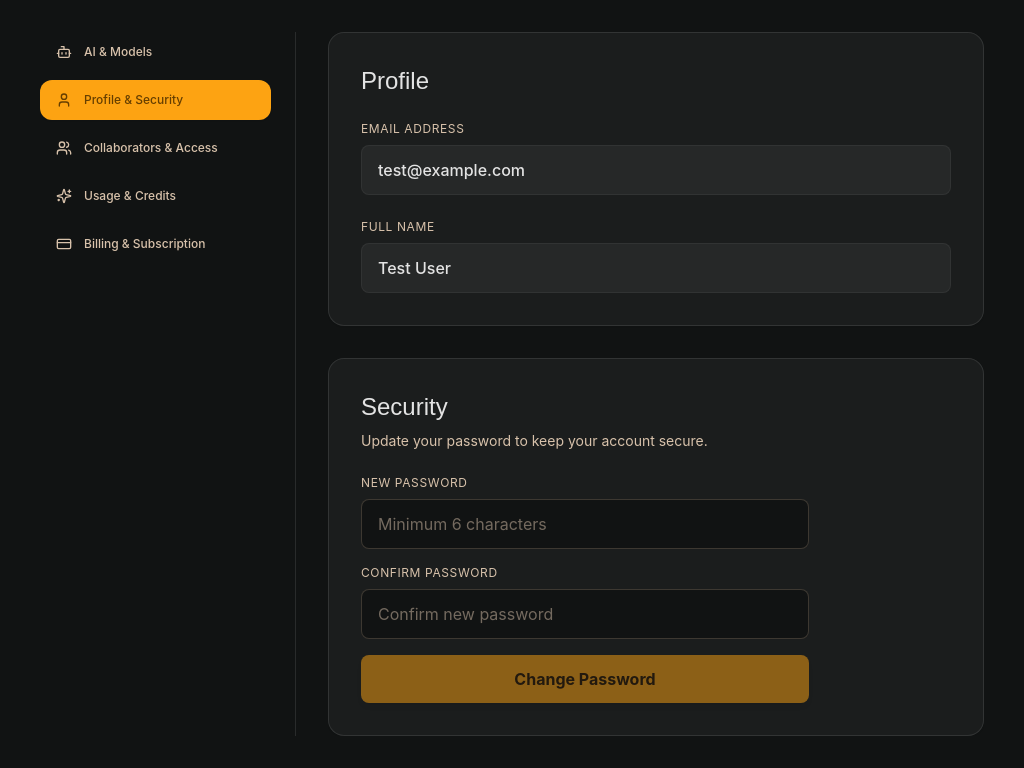
it: SettingsClient Tabbed Navigation › renders tab buttons and switches between tabs
Expected: the tab "Profile & Security" is shown, [40,80,271,120]
Expected: the tab "Collaborators & Access" is shown, [40,128,271,168]
Click the tab "Billing & Subscription".
click(156, 244)  # box [40,224,271,264]
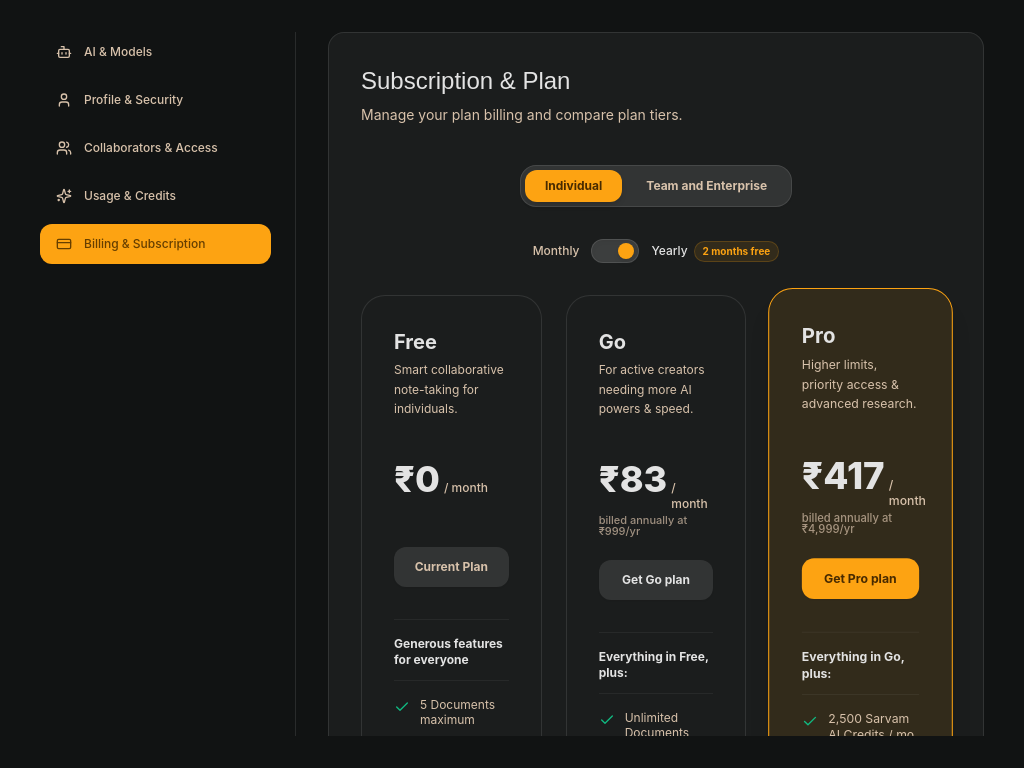
Result: the heading "Subscription & Plan" is shown at [361,67,570,94]
